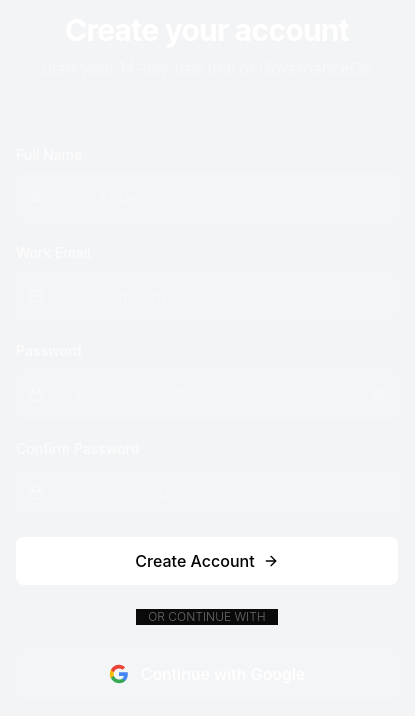
SignupPage › Google OAuth Signup › should show error when Google signup fails
Click the button "Continue with Google" at (207, 674), box left=16, top=649, right=398, bottom=699
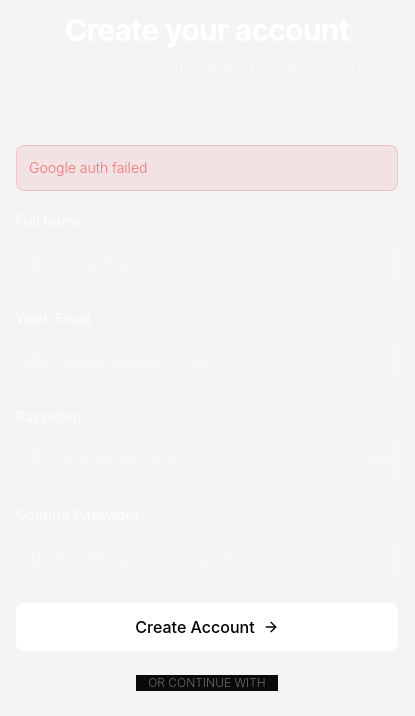
Expected: the text "Google auth failed" is shown, left=16, top=145, right=398, bottom=191
